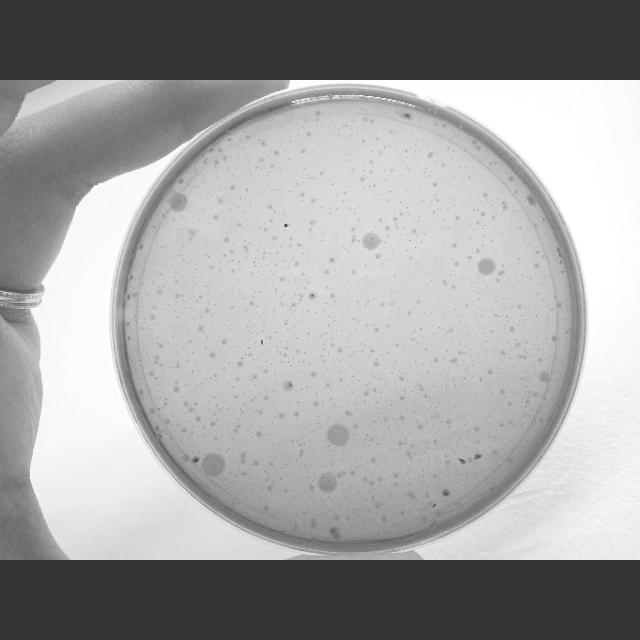colony: (442, 486, 451, 499), (473, 451, 483, 461), (457, 456, 467, 466), (329, 524, 336, 536), (192, 455, 200, 465), (403, 111, 411, 119), (288, 380, 294, 390), (260, 337, 264, 347), (432, 502, 438, 508), (284, 222, 288, 228), (310, 294, 314, 298)
